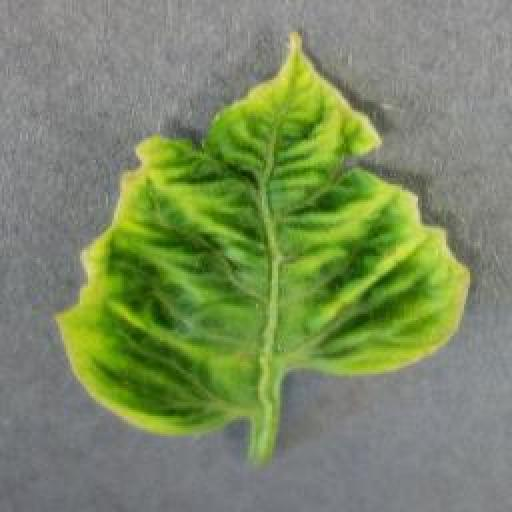Yellow Leaf Curl Virus: (51, 24, 475, 437)
